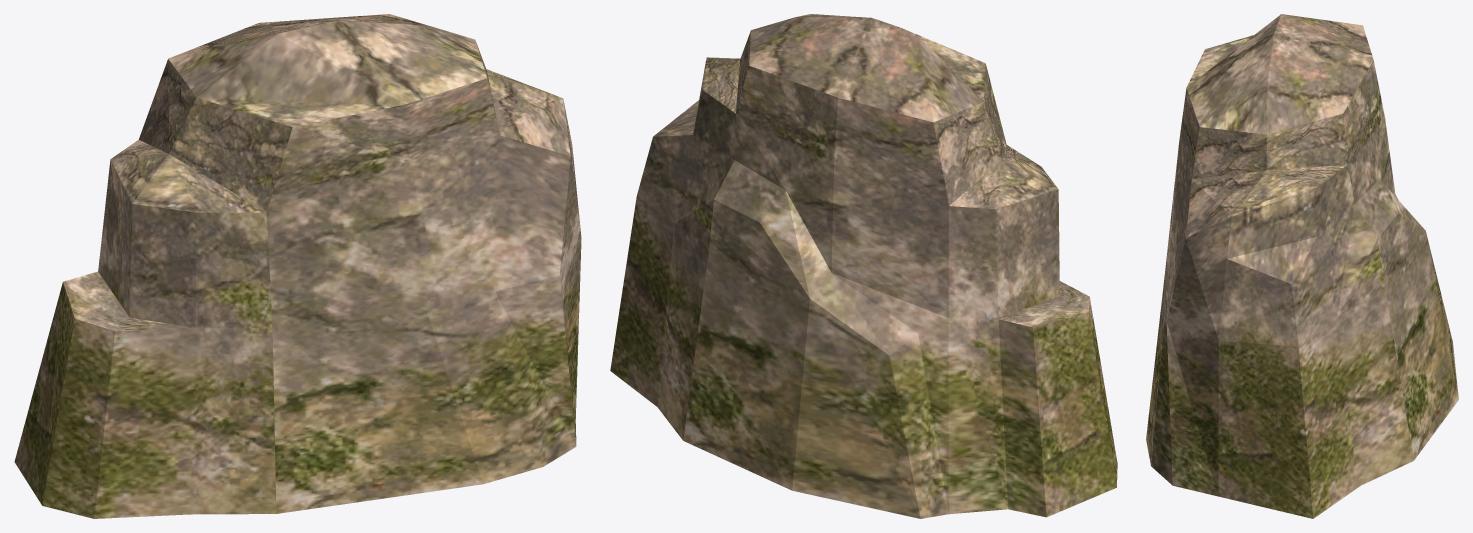
The model's file is town_mountain_a__11___1_35.fbx.
3 renders of one model, left to right at view 1: azimuth 30°, elevation 25°; view 2: azimuth 150°, elevation 25°; view 3: azimuth 270°, elevation 25°, orthographic. The views are drawn at different scales.
Parts seen in each view (by area): view 1: town_mountain_a__11___1_35; view 2: town_mountain_a__11___1_35; view 3: town_mountain_a__11___1_35.
Part boxes in pixels (box(x1,y1,x2,y2)): town_mountain_a__11___1_35: box(14, 14, 581, 518); town_mountain_a__11___1_35: box(610, 14, 1117, 518); town_mountain_a__11___1_35: box(1146, 14, 1458, 518).
Size of the model in its own units: 41.1 by 31.17 by 23.65.
